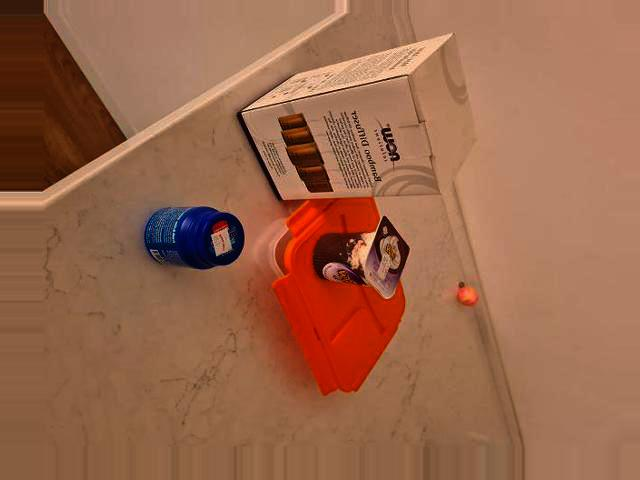milky: (311, 211, 415, 302)
